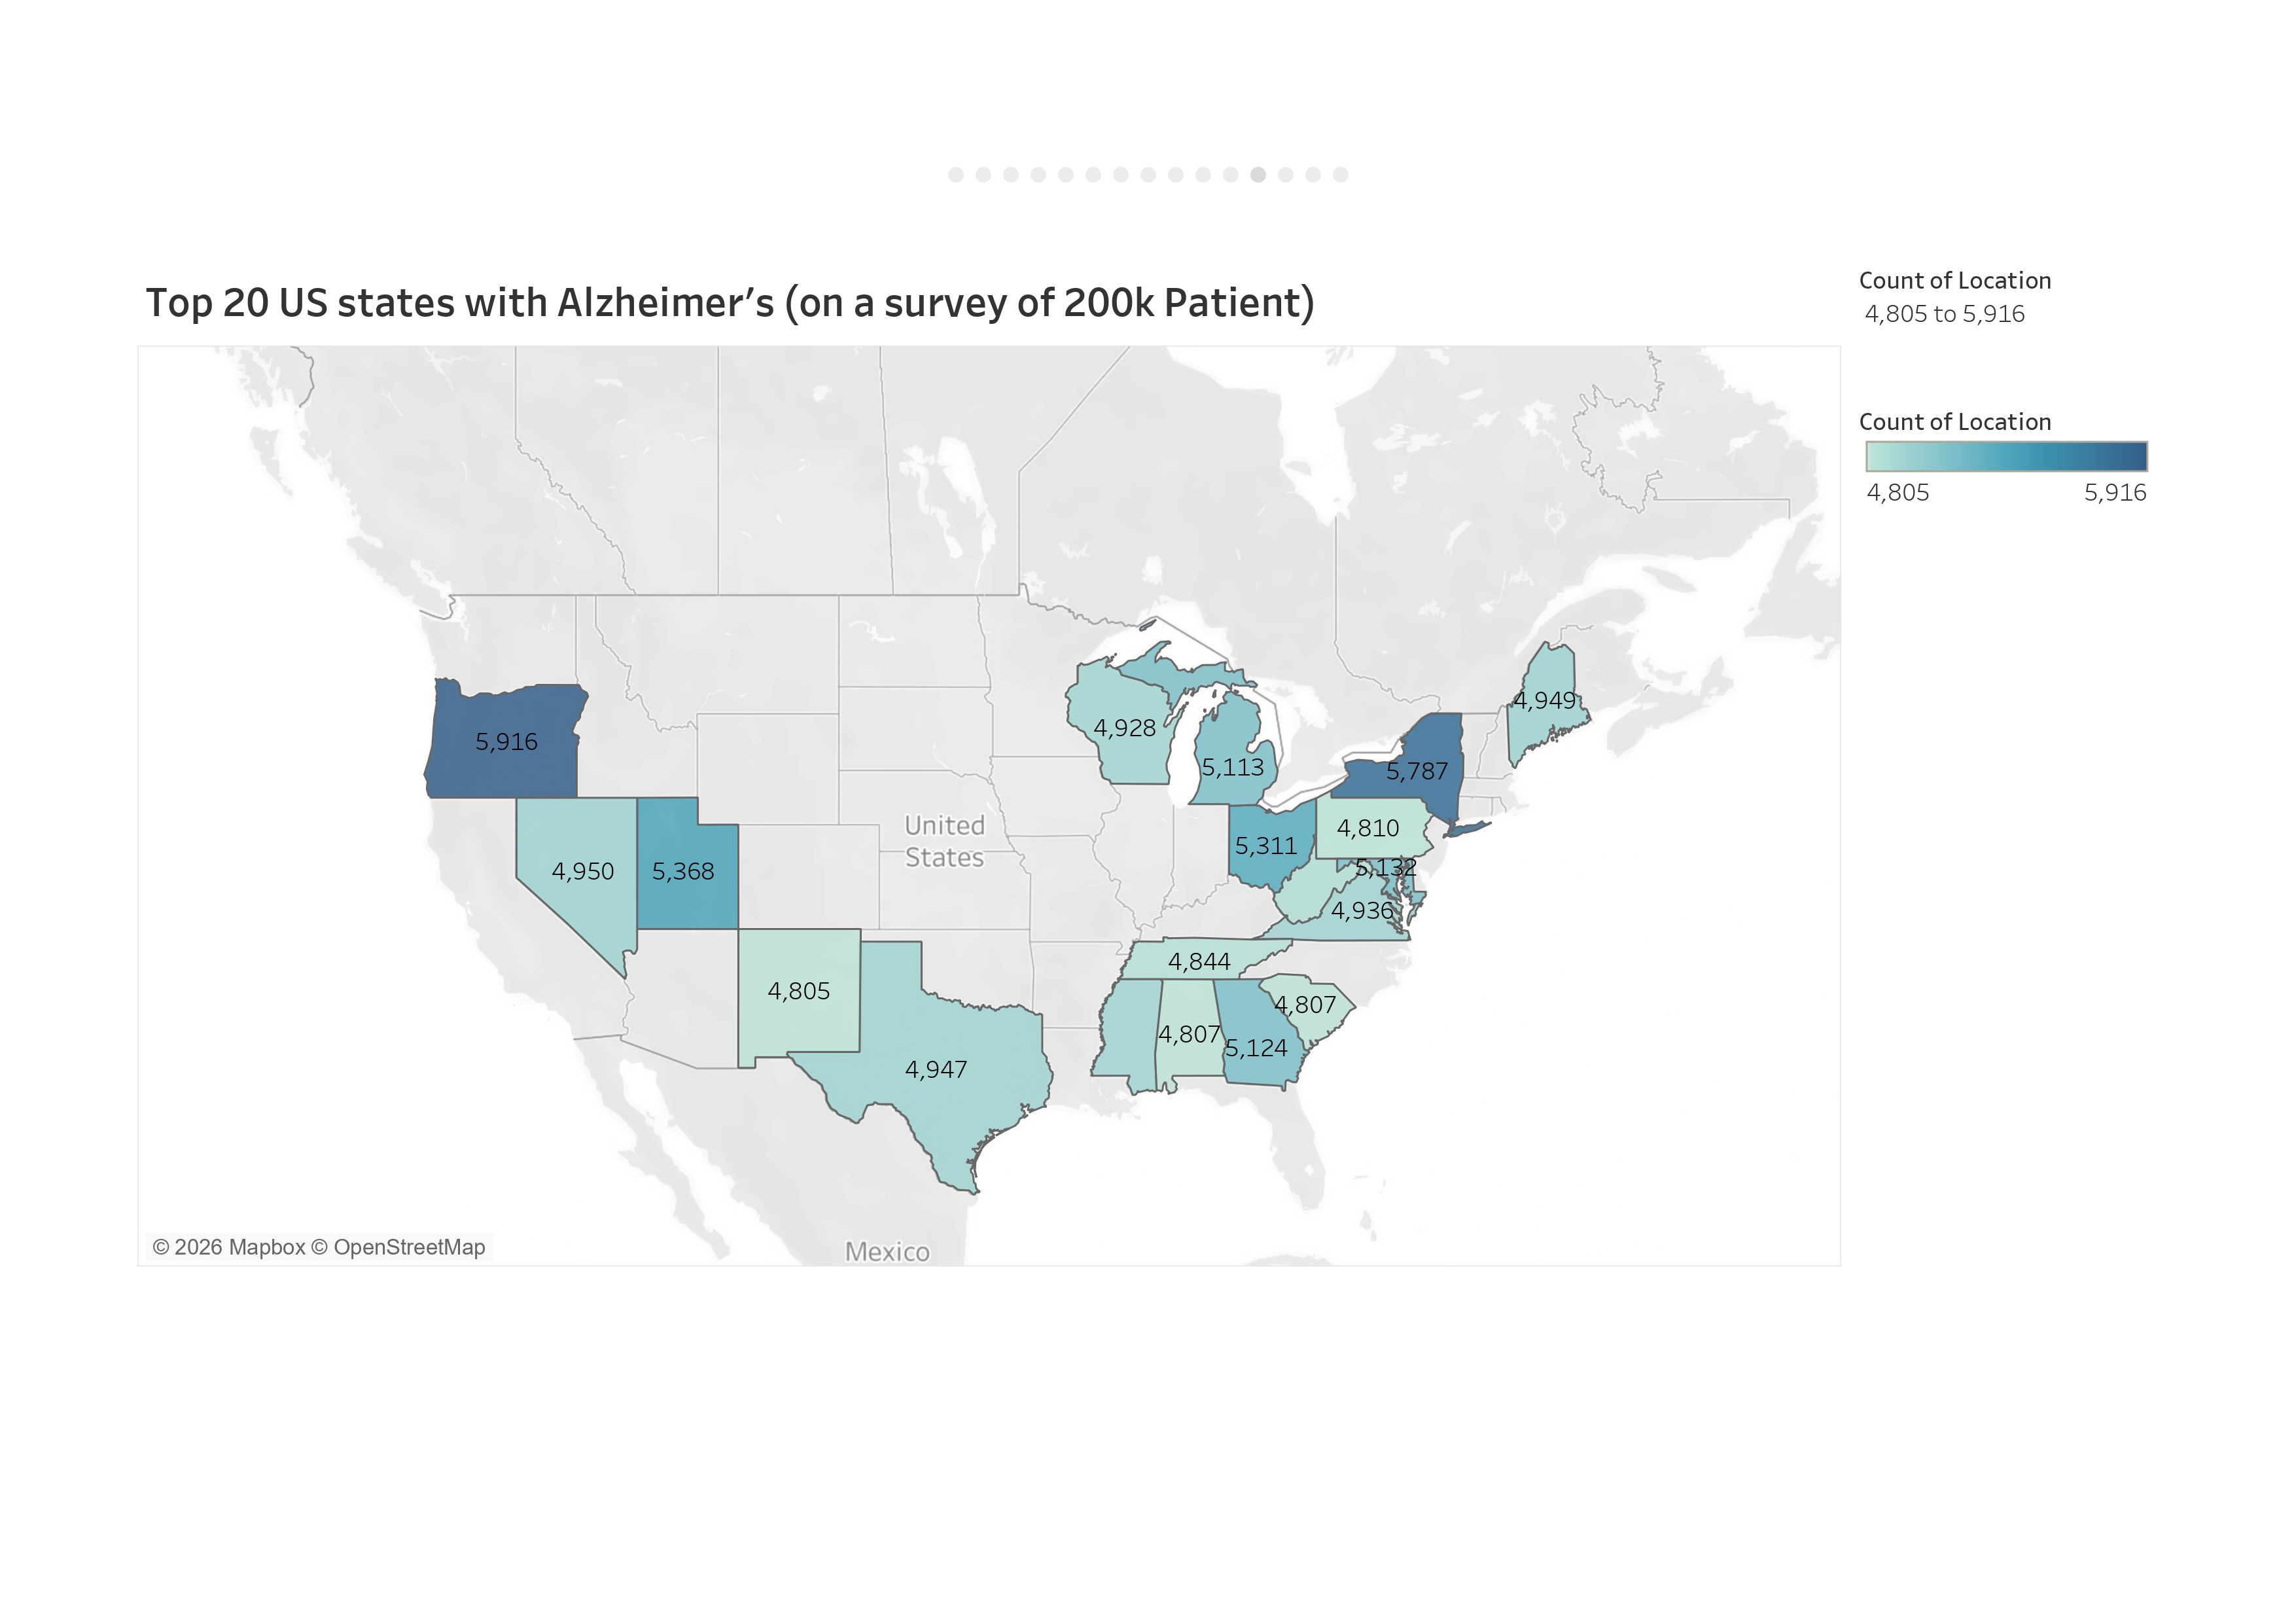

This screenshot's page, from the dashboard's own definition file:
{"tool":"tableau","page":{"name":"Alz in US (f)","canvas":[1000,1000],"units":"permille","ordinal":1},"visuals":[{"type":"worksheet","title":"Alzheimers in US","mark":"Multipolygon","box":[7.5,12.1,835.4,975.9]},{"type":"filter","title":"Alzheimers in US","param":"[federated.154d9fx13cjb6i1bg2pid1o592c8].[cnt:LocationDesc:qk]","box":[842.9,12.1,149.7,103.9]},{"type":"legend","title":"Alzheimers in US","param":"[federated.154d9fx13cjb6i1bg2pid1o592c8].[cnt:LocationDesc:qk]","box":[842.9,116,149.7,97.9]}]}

Visuals, with their boxes on the dashboard's canvas, which has no fixed pixel size, in thousandths of its width and height (x1, y1, x2, y2). These are canvas units, not pixel positions in the 2296x1623 screenshot, which may show the page scaled, cropped or inside an application window:
"Alzheimers in US" worksheet (Multipolygon marks): 8/12/843/988
"Alzheimers in US" filter: 843/12/993/116
"Alzheimers in US" legend: 843/116/993/214
